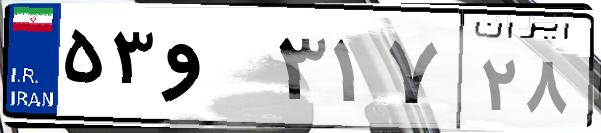1: (330, 28, 385, 110)
2: (475, 38, 525, 113)
3: (270, 28, 330, 110), (110, 28, 158, 98)
5: (57, 26, 110, 100)
7: (385, 28, 445, 110)
8: (525, 38, 570, 115)
و: (158, 20, 270, 120)
